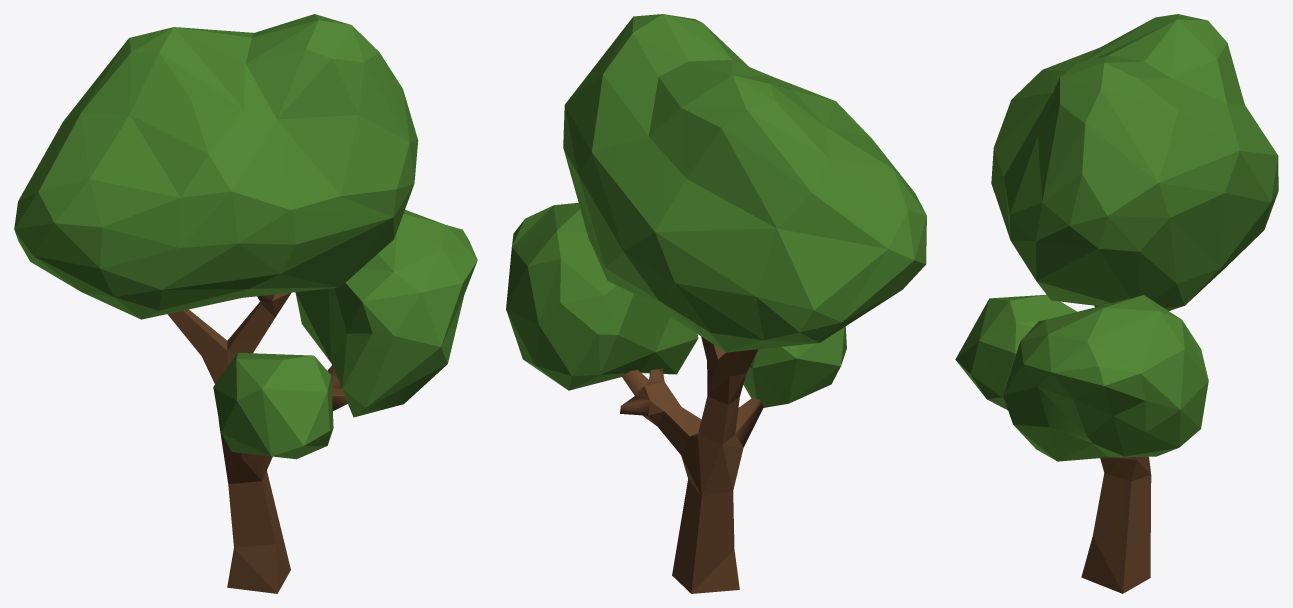
Rendered from Tree_03.fbx.
3 views of the same model, side by side, from view 1: azimuth 30°, elevation 25°; view 2: azimuth 150°, elevation 25°; view 3: azimuth 270°, elevation 25° (orthographic). The views are drawn at different scales.
Parts seen in each view (by area): view 1: Tree_03; view 2: Tree_03; view 3: Tree_03.
Boxes of the visible parts, bbox=[...] form: Tree_03: bbox=[14, 14, 477, 593]; Tree_03: bbox=[506, 14, 926, 593]; Tree_03: bbox=[955, 14, 1278, 593].
Bounding box in the file's own units: 10.13 × 12.47 × 6.77.
